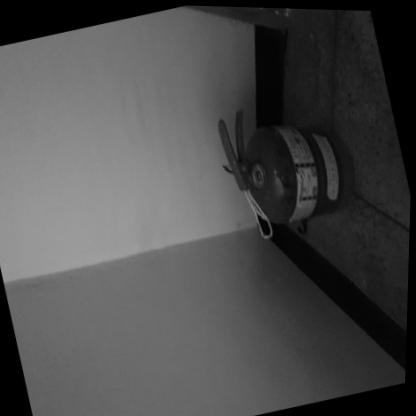FE: (213, 84, 363, 233)
